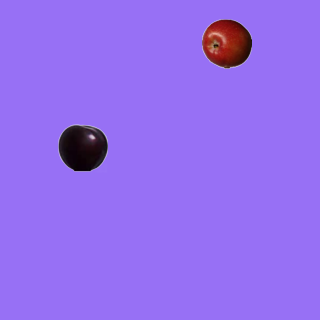Apple Braeburn: (201, 18, 251, 68)
Cherry Wax Black: (57, 122, 107, 172)
